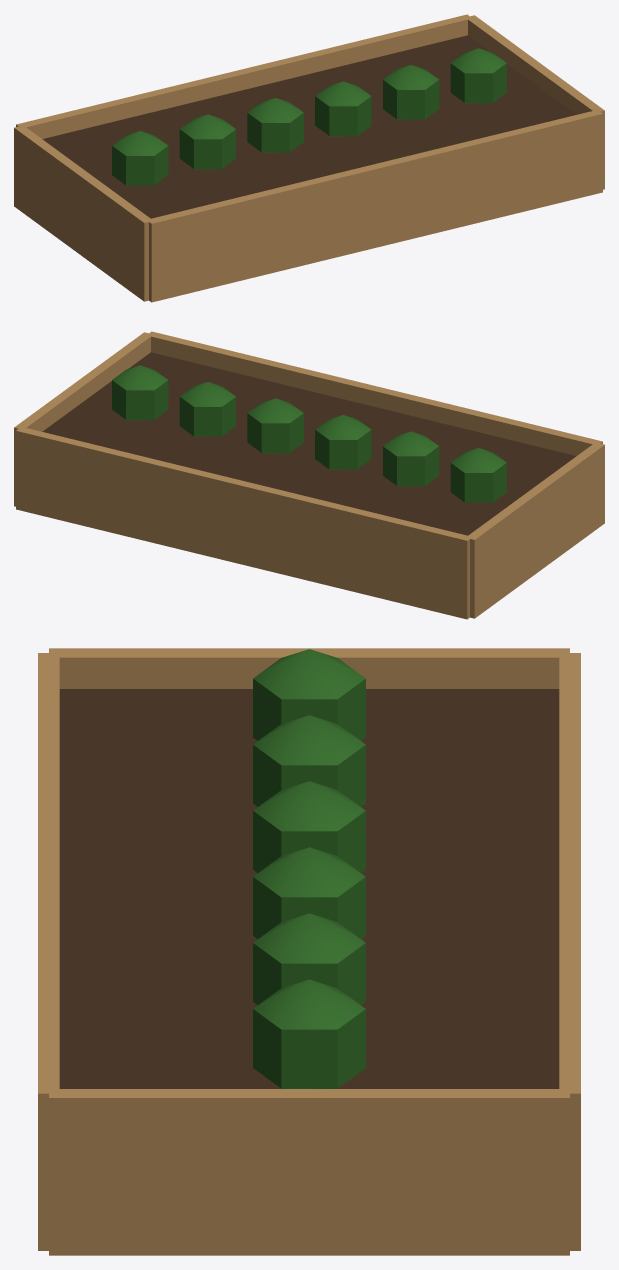
The model's file is landscape.bed.raised.glb.
3 renders of one model, top to bottom at view 1: azimuth 30°, elevation 25°; view 2: azimuth 150°, elevation 25°; view 3: azimuth 270°, elevation 25°, orthographic. The views are drawn at different scales.
Visible parts, largest first — view 1: main__softwood, main__soil, main__foliage; view 2: main__softwood, main__soil, main__foliage; view 3: main__soil, main__softwood, main__foliage.
Part boxes in pixels (x1,y1,x2,y2): main__softwood: [14, 14, 604, 302]; main__soil: [42, 35, 576, 218]; main__foliage: [112, 48, 506, 185]; main__softwood: [14, 331, 604, 619]; main__soil: [42, 352, 576, 535]; main__foliage: [112, 365, 506, 502]; main__soil: [59, 689, 559, 1088]; main__softwood: [38, 648, 580, 1255]; main__foliage: [253, 649, 365, 1088].
Bounding box in the file's own units: 2.45 × 0.55 × 1.25.
